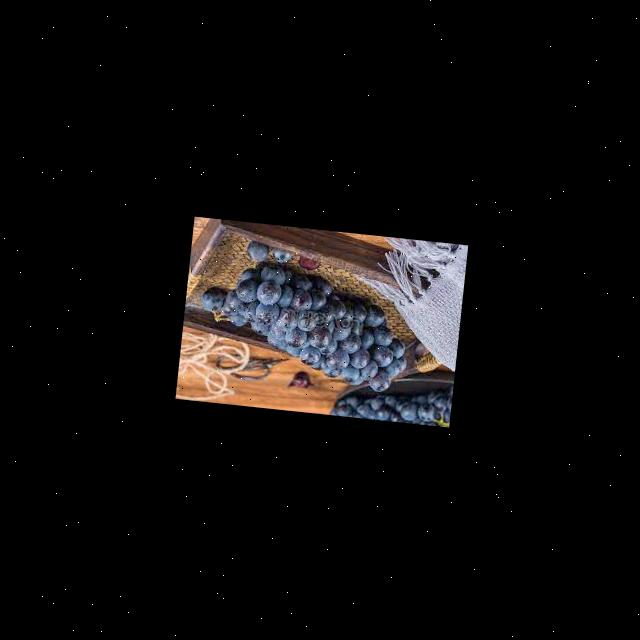grape: (192, 235, 416, 394), (328, 371, 452, 425)
